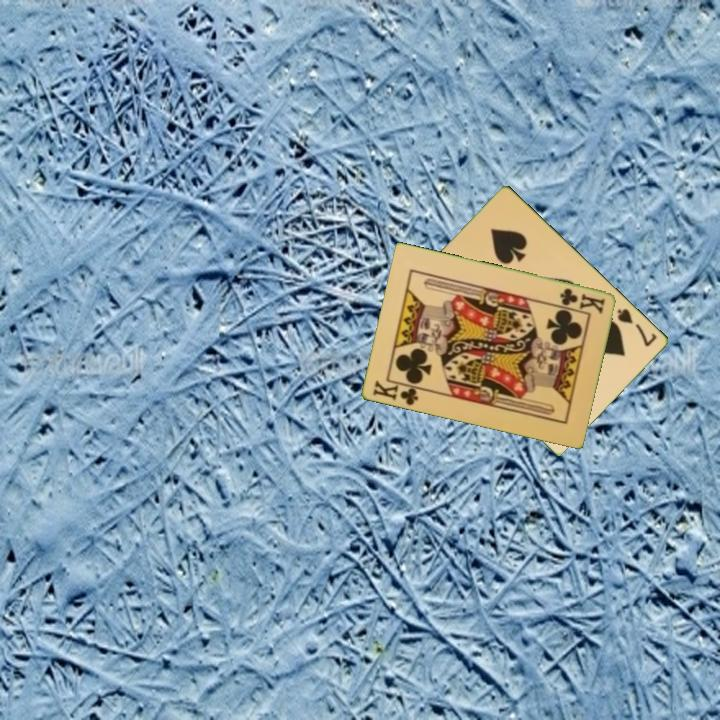7s: (614, 305, 660, 350)
Kc: (369, 377, 425, 408), (556, 285, 607, 316)
